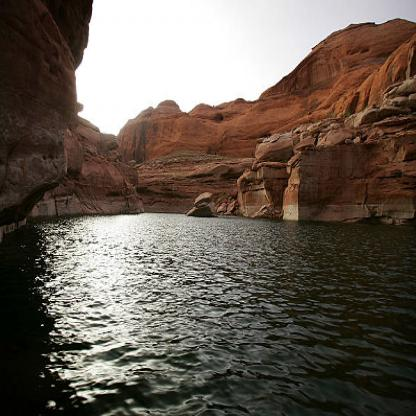Sedimentary_Sandstone: (279, 146, 368, 216), (122, 103, 188, 162), (338, 15, 415, 64), (370, 67, 416, 126), (233, 161, 279, 214)
